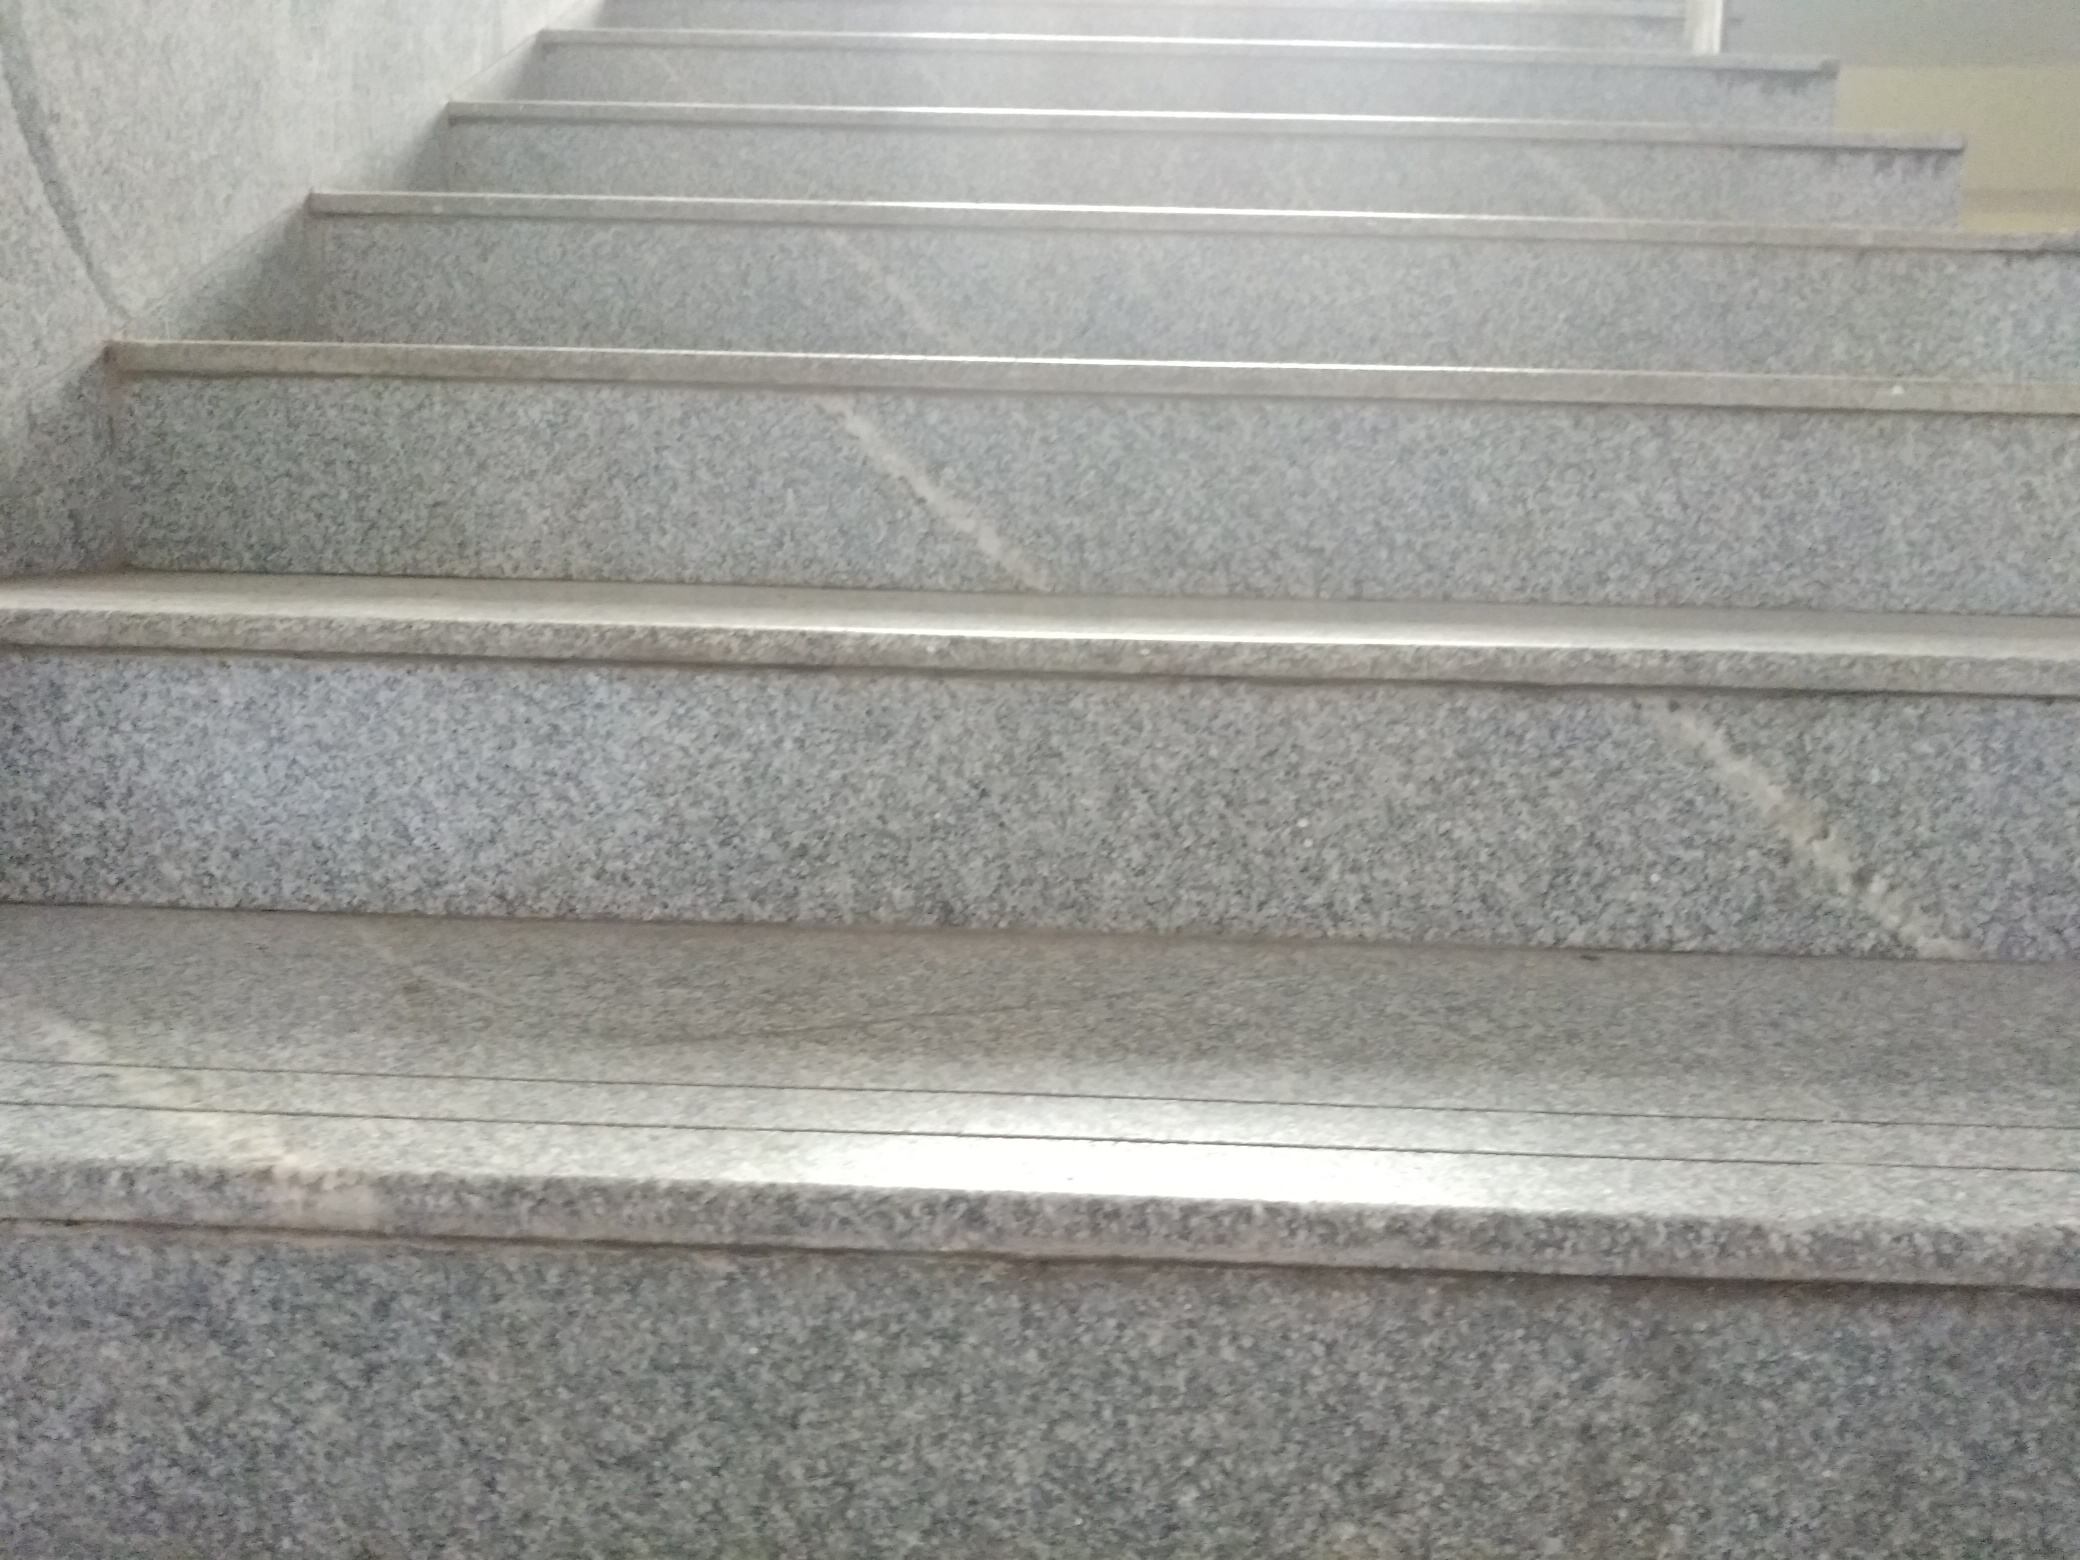stairs_up: (47, 11, 2080, 1494)
